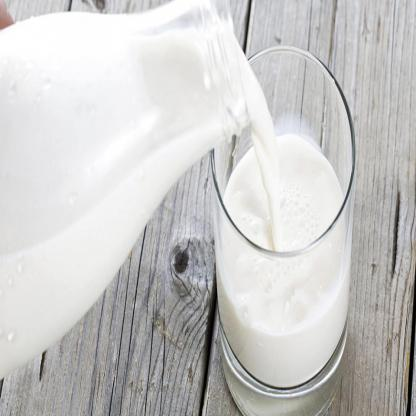milk: (214, 71, 352, 415)
